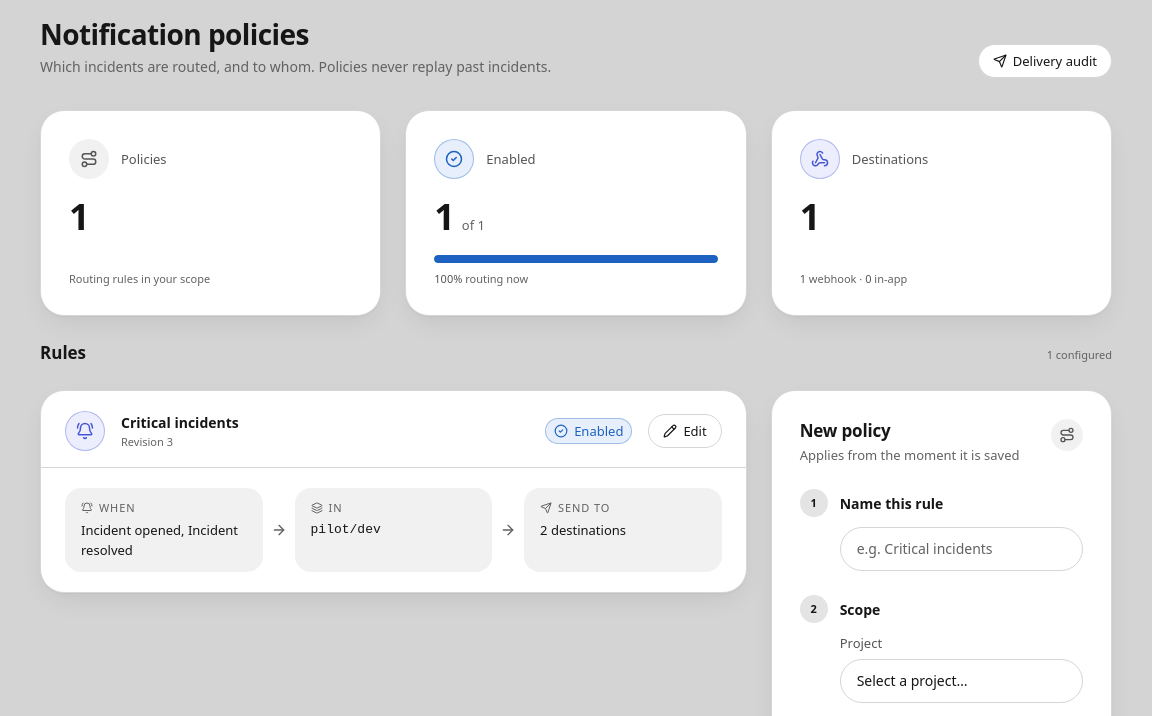
Scenario: notification policies › explains a version conflict on edit
Click the button "Edit": (685, 430) top-left (648, 414), bottom-right (722, 448)
(page scrolled)
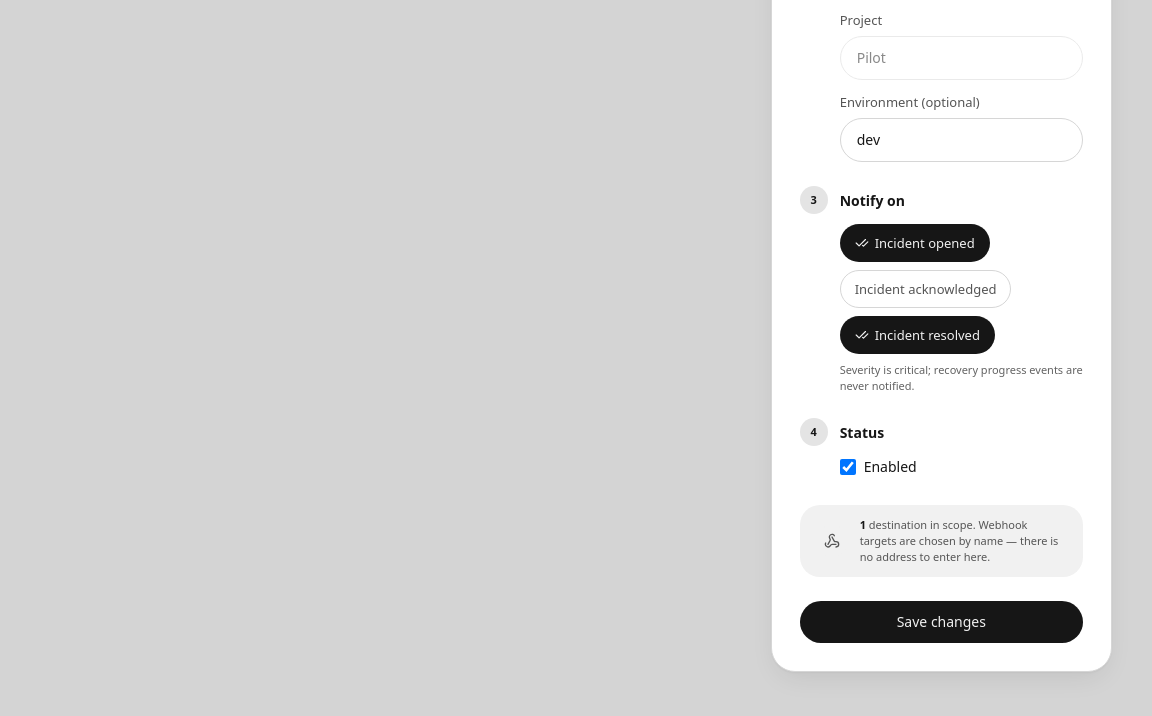
Click the button "Save changes": (941, 622) top-left (800, 600), bottom-right (1083, 642)
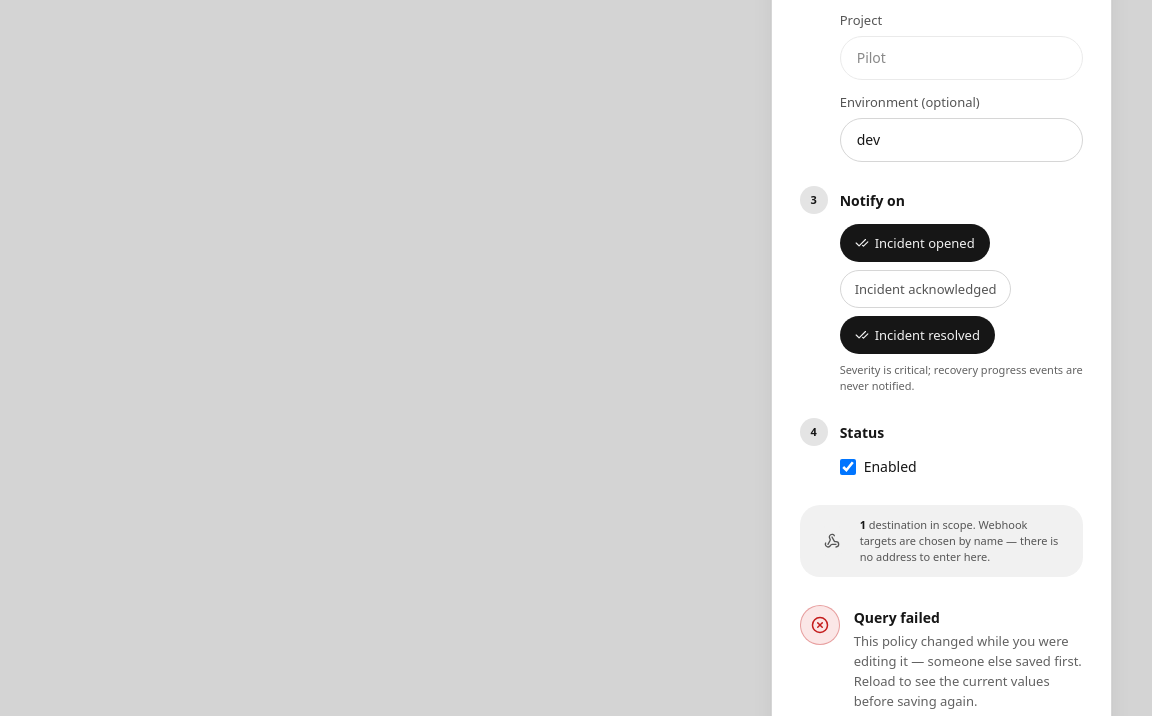
Check: the message with test id "policy-conflict" shows "someone else saved first", box top-left (854, 632), bottom-right (1082, 710)
